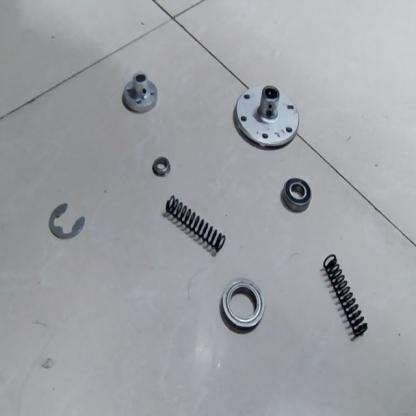FOD: (232, 77, 300, 150), (321, 246, 370, 346), (162, 193, 232, 260), (215, 276, 267, 337), (47, 198, 88, 245), (120, 69, 160, 113), (279, 174, 314, 214), (147, 154, 172, 180)
